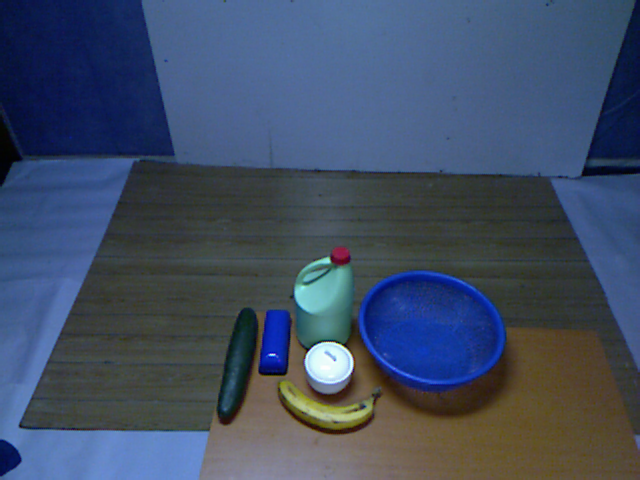azucarero: (300, 337, 354, 399)
borrador: (256, 305, 292, 379)
cloroplano: (290, 243, 358, 354)
colador: (355, 267, 508, 400)
pepino: (206, 305, 263, 427)
platano: (272, 374, 388, 438)
